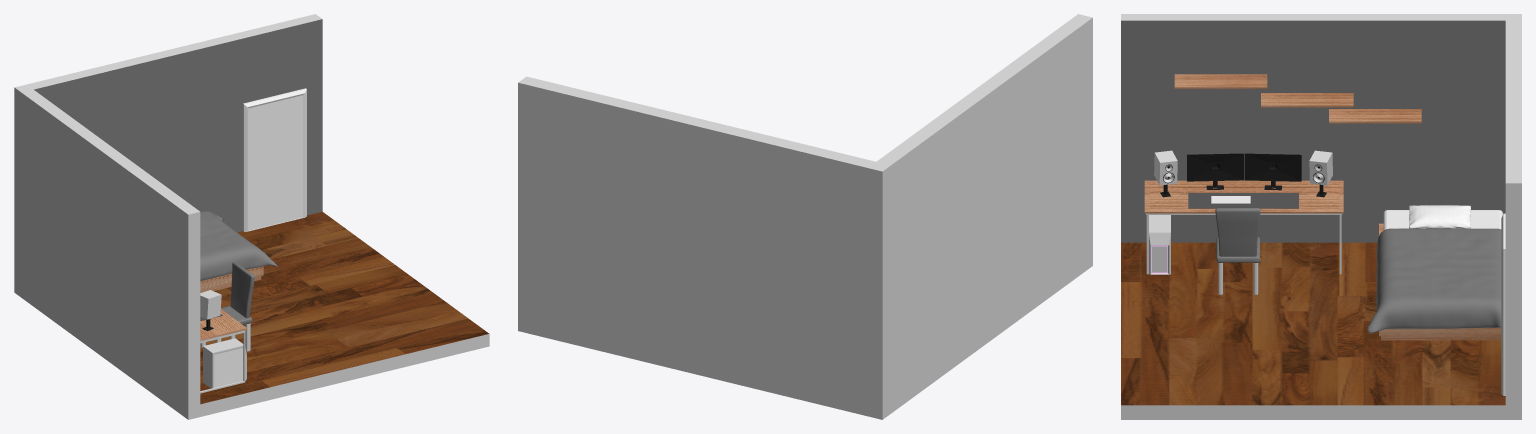
Rendered from isometric.glb.
The picture shows the model from 3 angles, left to right: view 1: azimuth 30°, elevation 25°; view 2: azimuth 150°, elevation 25°; view 3: azimuth 270°, elevation 25°; orthographic projection. The views are drawn at different scales.
Parts seen in each view (by area): view 1: Cube_2, Cube.005_7, Plane.001_5, Cube.006_9, Plane_1, Cube.004_8, Cube.011_12, Cube.001_3; view 2: Cube_2; view 3: Cube_2, Plane.001_5, Cube.004_8, Plane_1, Cube.007_10, Cube.009_11, Cube.001_3, Cube.003_6, Cube.008_13, Cube.015_15, Cube.013_17, Cube.014_18 (+5 smaller).
Part boxes in pixels (<box>): Cube_2: <box>14,14,489,419</box>; Cube.005_7: <box>243,88,306,231</box>; Plane.001_5: <box>200,211,278,280</box>; Cube.006_9: <box>203,338,246,388</box>; Plane_1: <box>200,262,254,351</box>; Cube.004_8: <box>200,309,247,393</box>; Cube.011_12: <box>200,290,221,330</box>; Cube.001_3: <box>200,266,263,292</box>; Cube_2: <box>518,14,1092,419</box>; Cube_2: <box>1121,14,1521,419</box>; Plane.001_5: <box>1367,228,1501,333</box>; Cube.004_8: <box>1144,180,1343,274</box>; Plane_1: <box>1215,208,1260,294</box>; Cube.007_10: <box>1244,153,1301,190</box>; Cube.009_11: <box>1187,153,1243,189</box>; Cube.001_3: <box>1379,223,1501,340</box>; Cube.003_6: <box>1409,205,1470,228</box>; Cube.008_13: <box>1188,193,1298,208</box>; Cube.015_15: <box>1174,74,1267,88</box>; Cube.013_17: <box>1261,93,1353,107</box>; Cube.014_18: <box>1329,109,1421,123</box>.
Size of the model in its own units: 8.66 by 5.64 by 8.66.
Materials: 15 (2 with a texture image).
